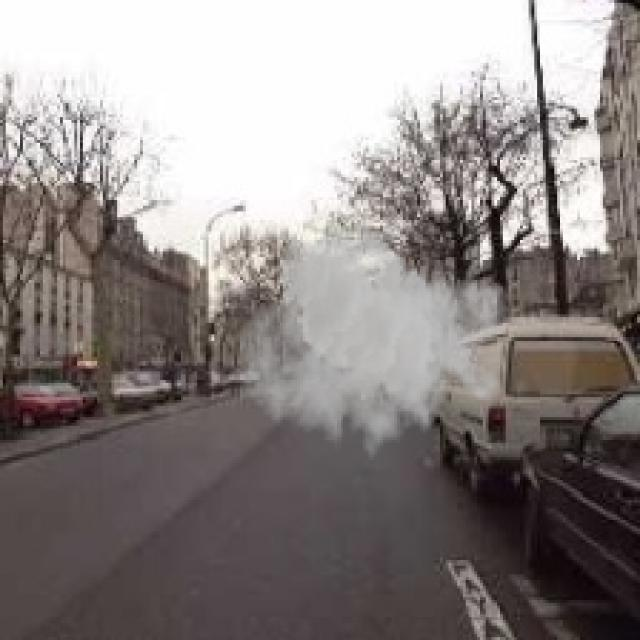smoke: (237, 217, 514, 472)
